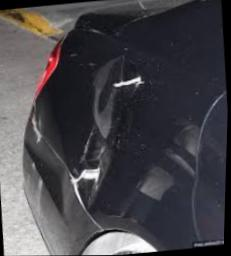Fender: (41, 42, 174, 230)
